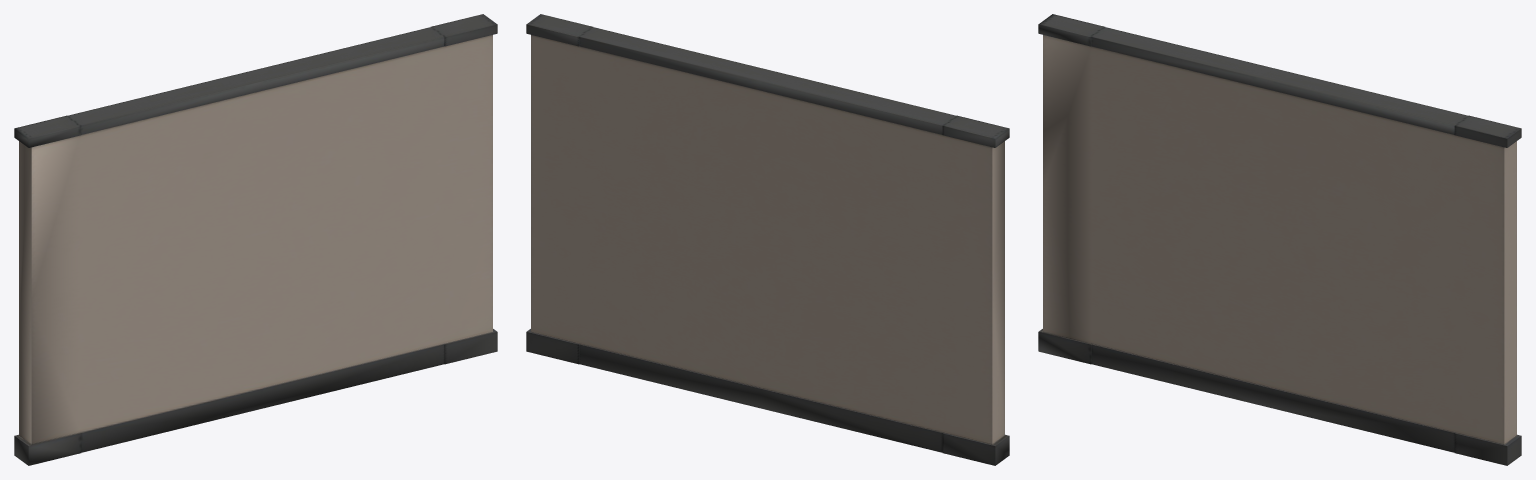
Rendered from ENV_Wall_6m_A_v001.fbx.
3 views of the same model, side by side, from view 1: azimuth 30°, elevation 25°; view 2: azimuth 150°, elevation 25°; view 3: azimuth 330°, elevation 25° (orthographic).
Parts seen in each view (by area): view 1: 큐브.001; view 2: 큐브.001; view 3: 큐브.001.
Boxes of the visible parts, bbox=[...] form: 큐브.001: bbox=[14, 14, 497, 465]; 큐브.001: bbox=[526, 14, 1009, 465]; 큐브.001: bbox=[1038, 14, 1521, 465].
Size of the model in its own units: 600 by 400 by 31.55.
Materials: 1 (1 with a texture image).
